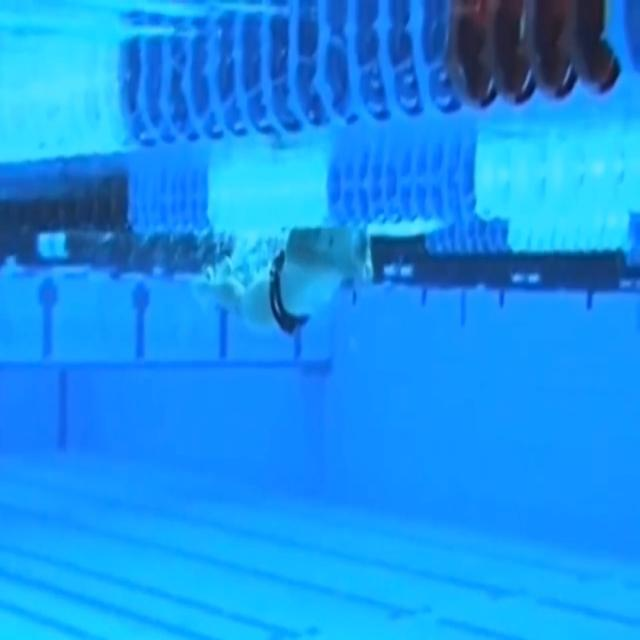Swimming: (198, 230, 372, 336)
